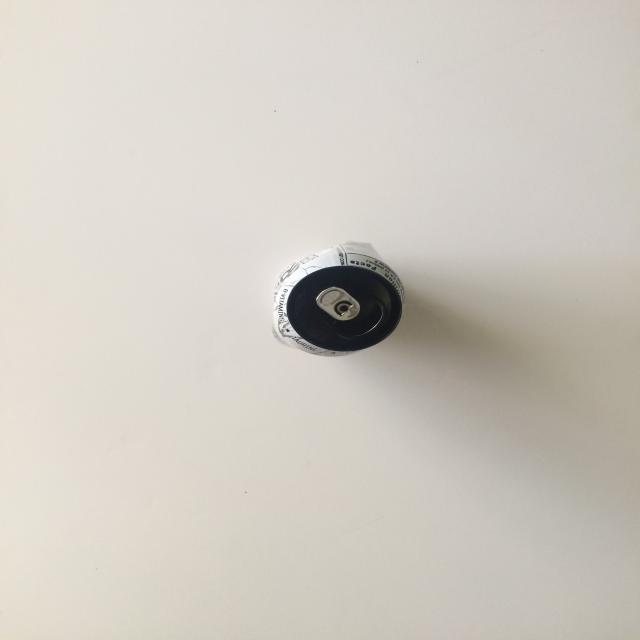metal: (258, 236, 420, 362)
